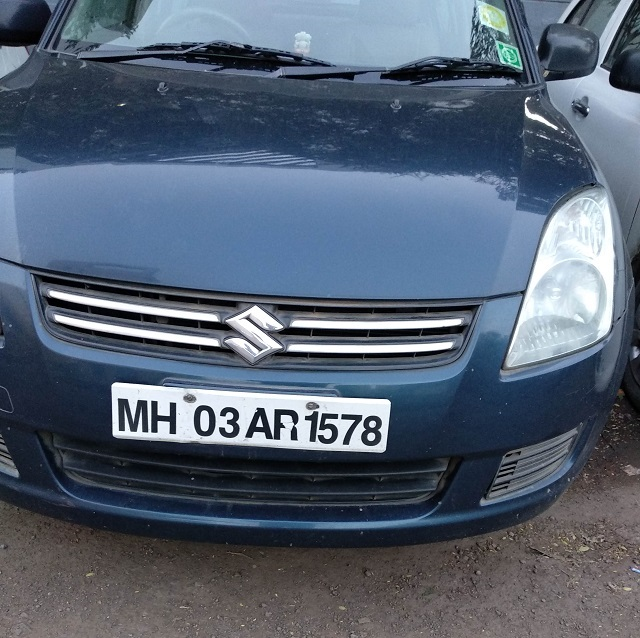licenseplate: (108, 379, 393, 463)
